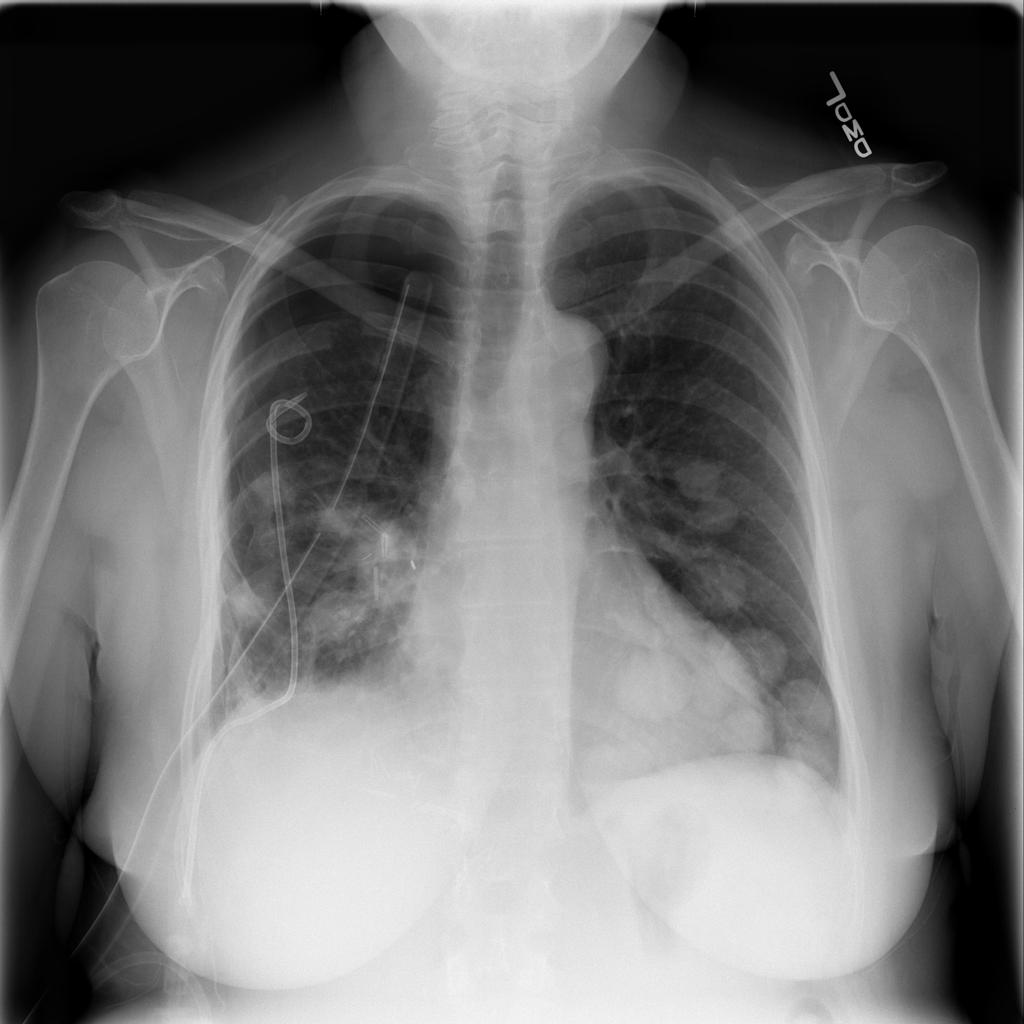nodule: (611, 645, 688, 726), (717, 621, 793, 701), (582, 730, 664, 803), (680, 548, 757, 619), (774, 673, 845, 749), (683, 643, 762, 710), (707, 699, 778, 765), (675, 497, 750, 541), (671, 448, 727, 498)
